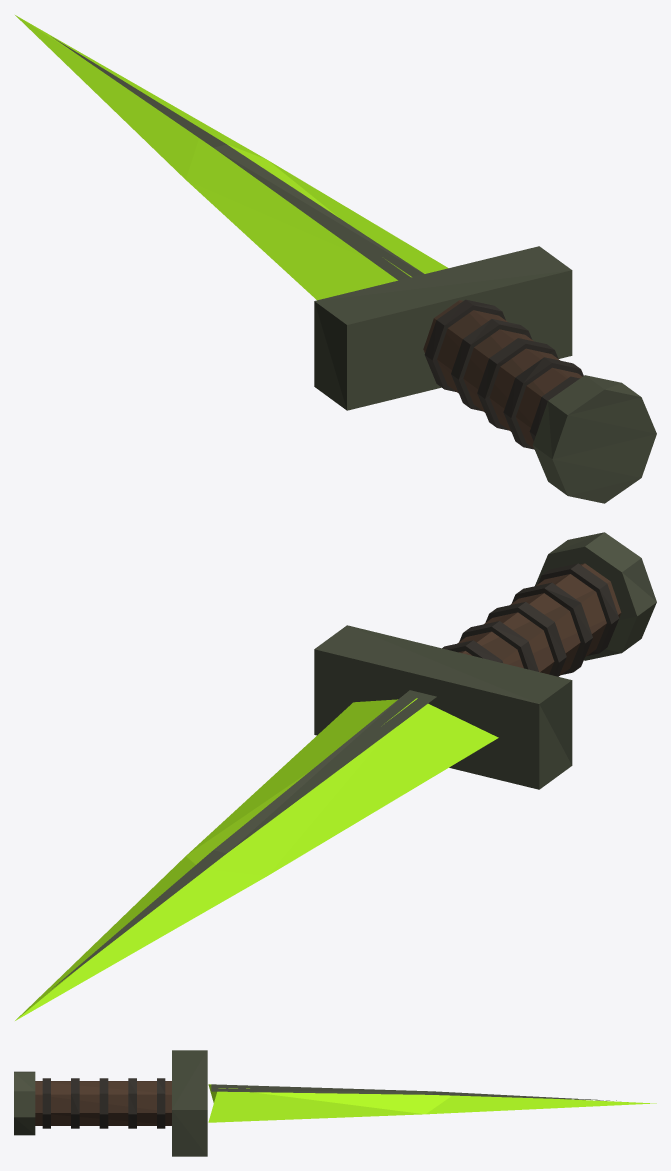
The model's file is SM_Needle_Dagger.fbx.
The picture shows the model from 3 angles, top to bottom: view 1: azimuth 30°, elevation 25°; view 2: azimuth 150°, elevation 25°; view 3: azimuth 270°, elevation 25°; orthographic projection. The views are drawn at different scales.
Visible parts, largest first — view 1: SM_Needle_Dagger; view 2: SM_Needle_Dagger; view 3: SM_Needle_Dagger.
Boxes of the visible parts, x1,y1,x2,y2 form: SM_Needle_Dagger: [15, 15, 656, 503]; SM_Needle_Dagger: [15, 532, 656, 1020]; SM_Needle_Dagger: [14, 1050, 656, 1156].
Bounding box in the file's own units: 9.9 × 45 × 4.8.
2 materials, 2 textured.
